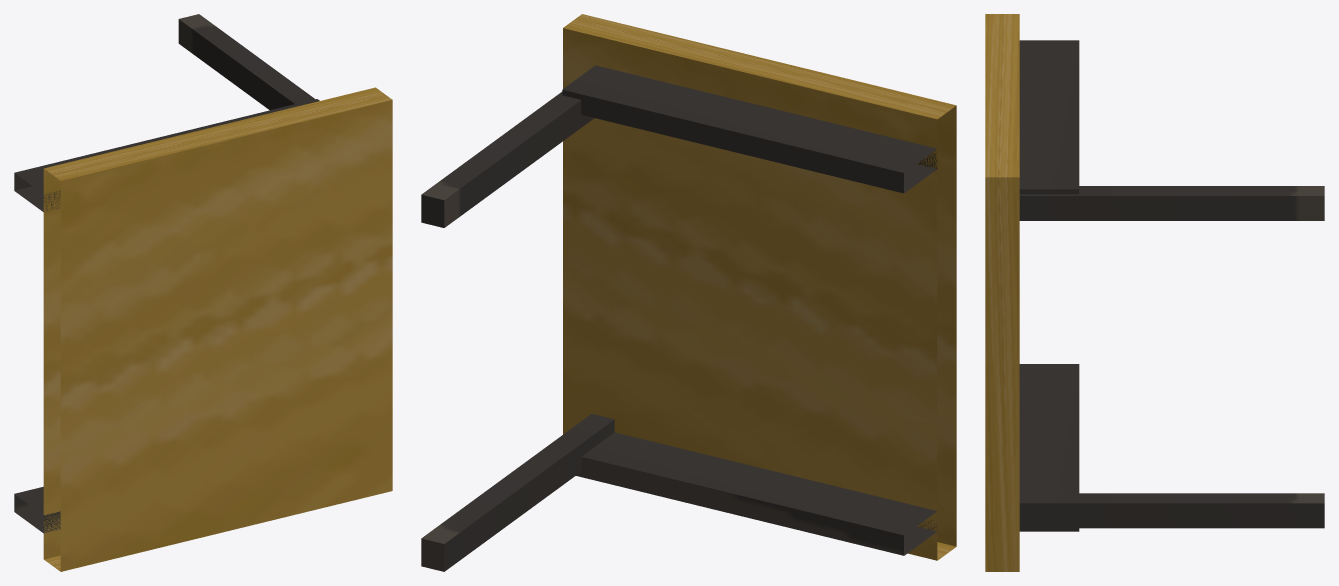
The model's file is pz_table_tables_high_01_large_simple_1_0.obj.
The picture shows the model from 3 angles, left to right: view 1: azimuth 30°, elevation 25°; view 2: azimuth 150°, elevation 25°; view 3: azimuth 270°, elevation 25°; orthographic projection. The views are drawn at different scales.
Size of the model in its own units: 0.8438 by 0.95 by 0.74.
1 material, 1 textured.
